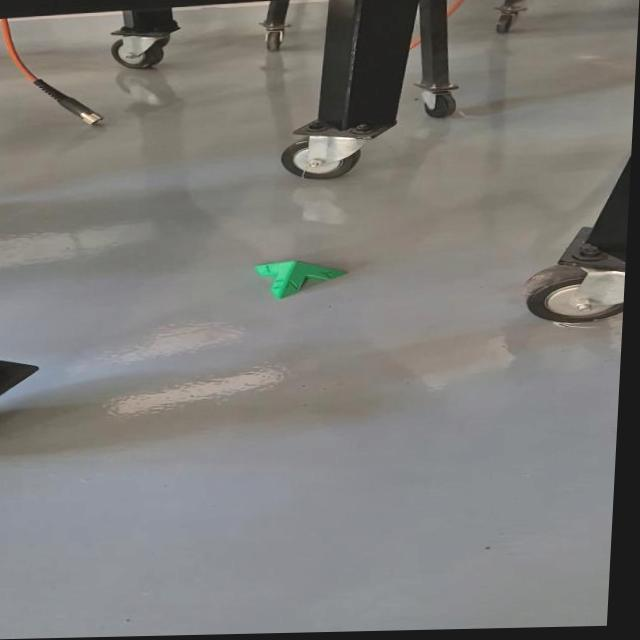eje: (251, 258, 350, 301)
